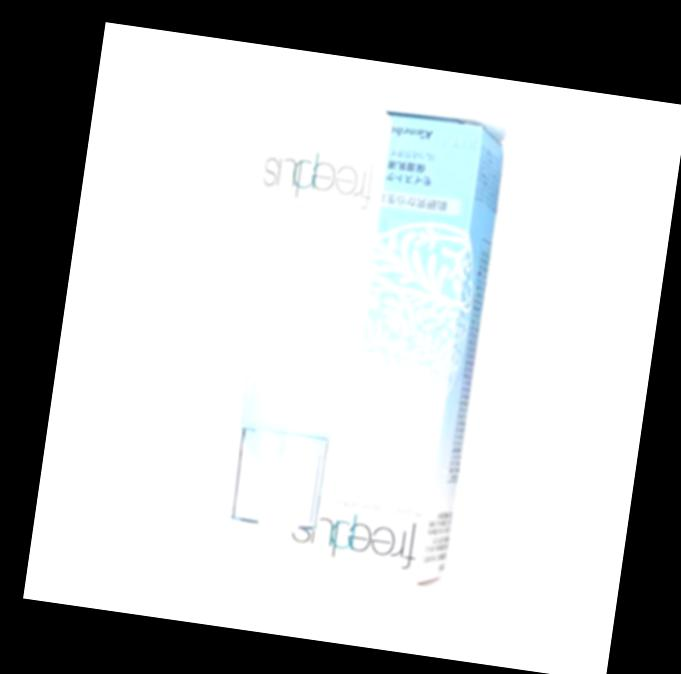cosmetic: (206, 88, 397, 537)
